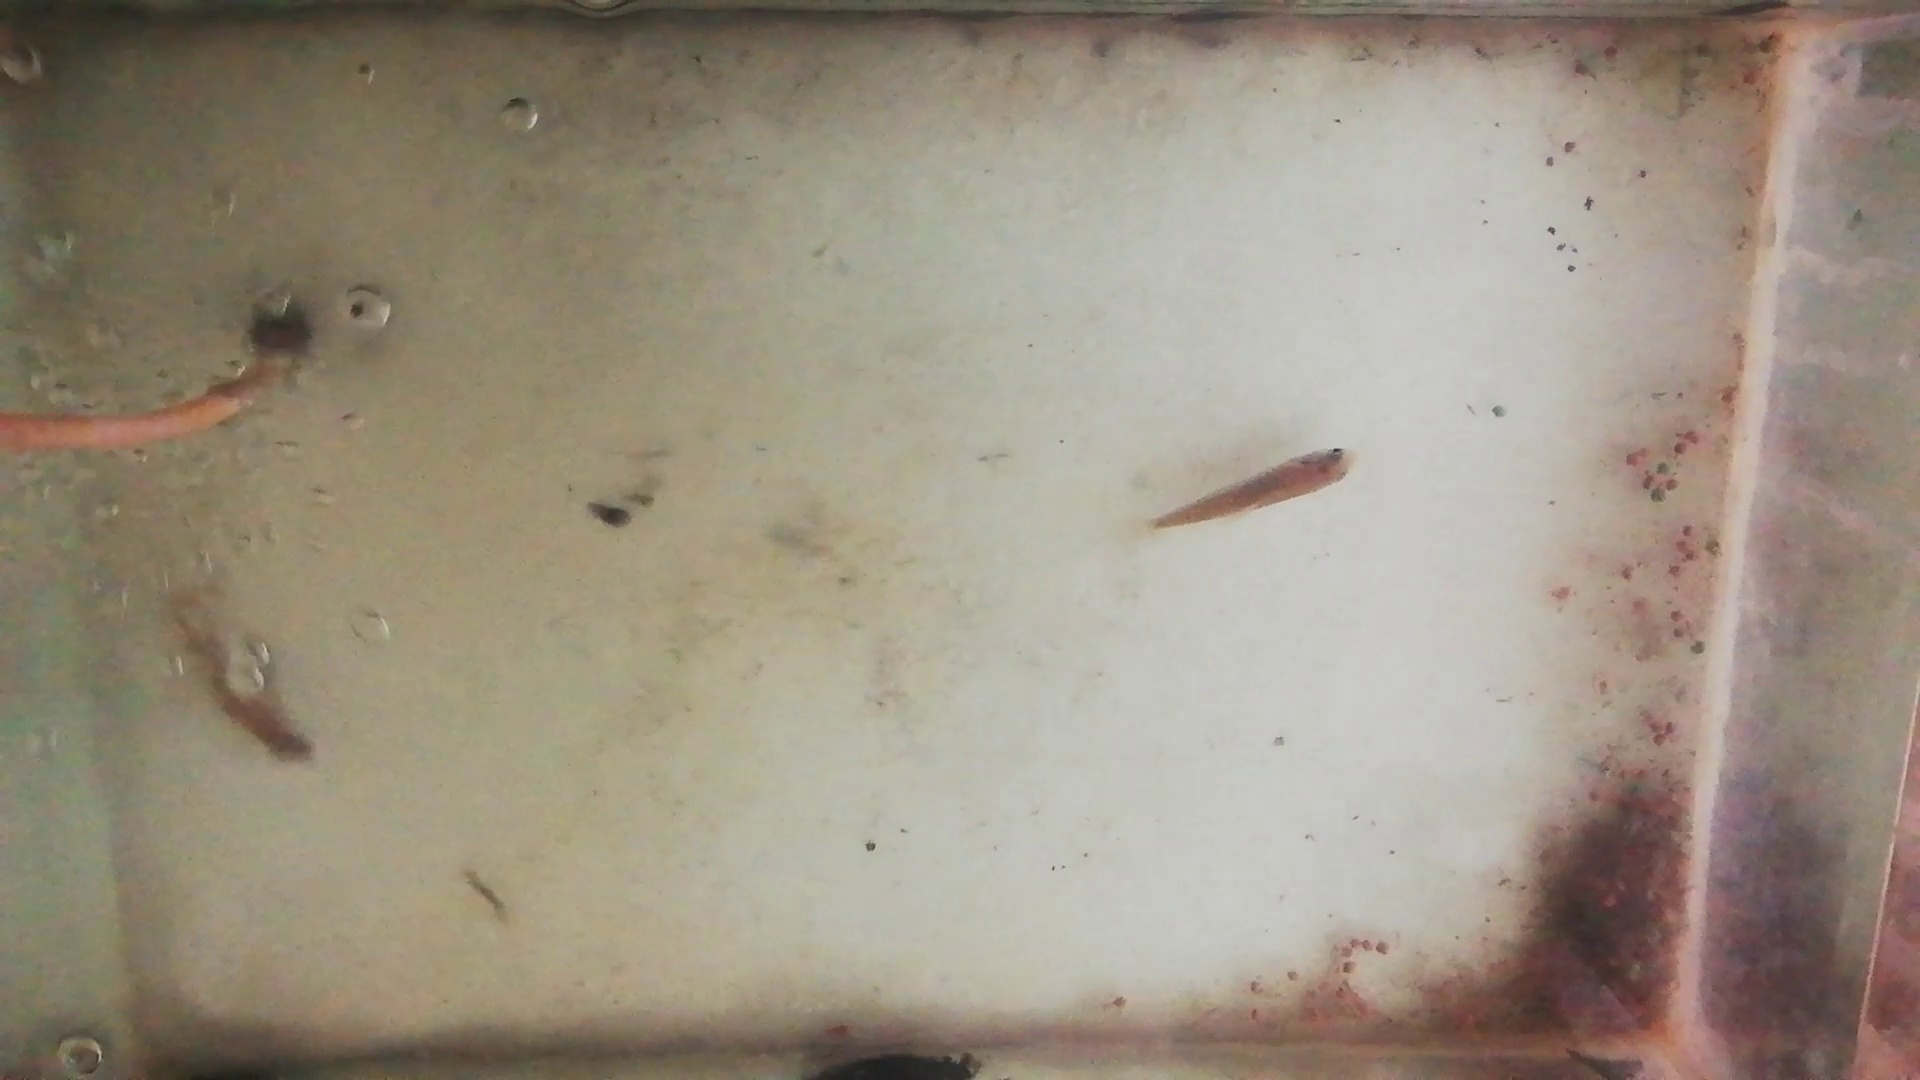fish: (164, 589, 311, 764), (1150, 447, 1352, 531)
